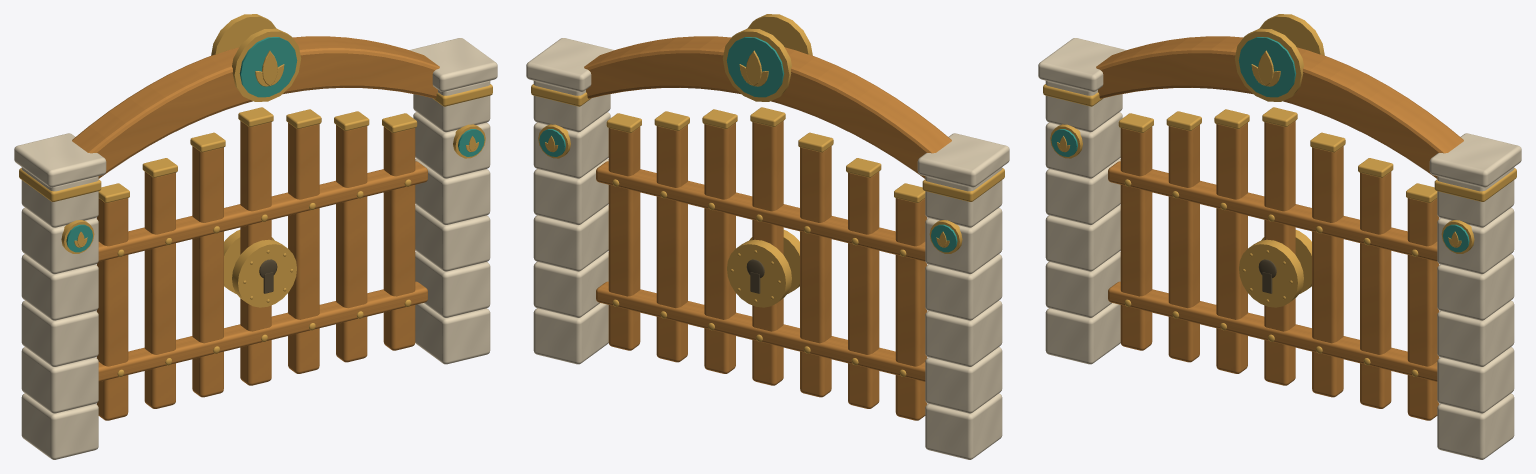
File: garden-shortcut-gate.glb
3 views of the same model, side by side, from view 1: azimuth 30°, elevation 25°; view 2: azimuth 150°, elevation 25°; view 3: azimuth 330°, elevation 25° (orthographic).
Parts seen in each view (by area): view 1: gate-grille-tree-bench-wood, gate-frame-tree-bench-stone, gate-frame-tree-bench-wood, gate-grille-tree-bench-brass, gate-frame-tree-bench-brass, gate-frame-tree-bench-leaf; view 2: gate-grille-tree-bench-wood, gate-frame-tree-bench-stone, gate-frame-tree-bench-wood, gate-grille-tree-bench-brass, gate-frame-tree-bench-brass, gate-frame-tree-bench-leaf; view 3: gate-grille-tree-bench-wood, gate-frame-tree-bench-stone, gate-frame-tree-bench-wood, gate-grille-tree-bench-brass, gate-frame-tree-bench-brass, gate-frame-tree-bench-leaf.
Boxes of the visible parts, x1,y1,x2,y2 form: gate-grille-tree-bench-wood: (96, 121, 427, 420); gate-frame-tree-bench-stone: (14, 38, 497, 459); gate-frame-tree-bench-wood: (72, 36, 439, 178); gate-grille-tree-bench-brass: (98, 107, 417, 376); gate-frame-tree-bench-brass: (19, 14, 492, 253); gate-frame-tree-bench-leaf: (66, 37, 484, 252); gate-grille-tree-bench-wood: (596, 121, 927, 420); gate-frame-tree-bench-stone: (526, 38, 1009, 459); gate-frame-tree-bench-wood: (584, 36, 951, 178); gate-grille-tree-bench-brass: (606, 107, 925, 376); gate-frame-tree-bench-brass: (531, 14, 1004, 253); gate-frame-tree-bench-leaf: (539, 37, 957, 252); gate-grille-tree-bench-wood: (1108, 121, 1439, 420); gate-frame-tree-bench-stone: (1038, 38, 1521, 459); gate-frame-tree-bench-wood: (1096, 36, 1463, 178); gate-grille-tree-bench-brass: (1118, 107, 1437, 376); gate-frame-tree-bench-brass: (1043, 14, 1516, 253); gate-frame-tree-bench-leaf: (1051, 37, 1469, 252).
Bounding box in the file's own units: 5.17 × 4.1 × 0.8362.
5 materials, 2 textured.
